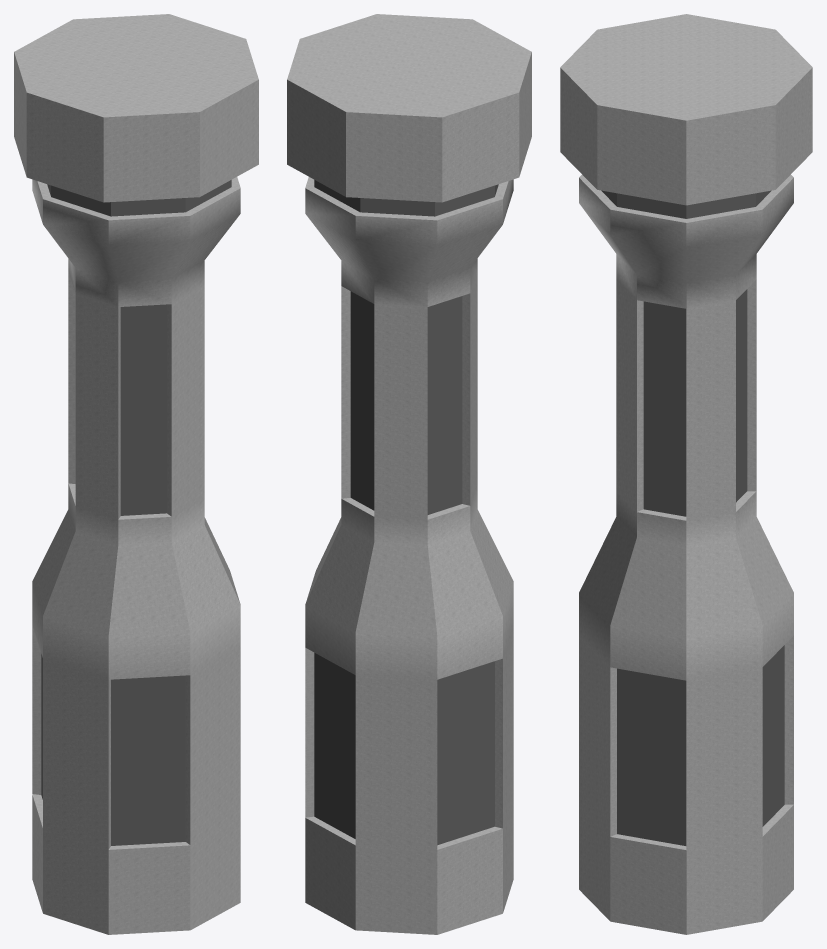
Rendered from tower.fbx.
The picture shows the model from 3 angles, left to right: view 1: azimuth 30°, elevation 25°; view 2: azimuth 150°, elevation 25°; view 3: azimuth 270°, elevation 25°; orthographic projection.
Visible parts, largest first — view 1: mesh_14; view 2: mesh_14; view 3: mesh_14.
Boxes of the visible parts, x1,y1,x2,y2 form: mesh_14: (14, 14, 258, 934); mesh_14: (287, 14, 531, 934); mesh_14: (560, 14, 812, 934).
Size of the model in its own units: 864 by 3104 by 864.
2 materials, 1 textured.
